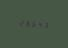eight: (24, 19, 29, 27)
four: (36, 20, 41, 28)
six: (30, 19, 35, 28)
three: (42, 20, 47, 29)
two: (18, 18, 23, 27)
